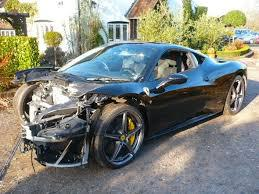Front-Windscreen-Damage: (80, 44, 141, 78)
front-bumper-dent: (16, 127, 82, 162)
